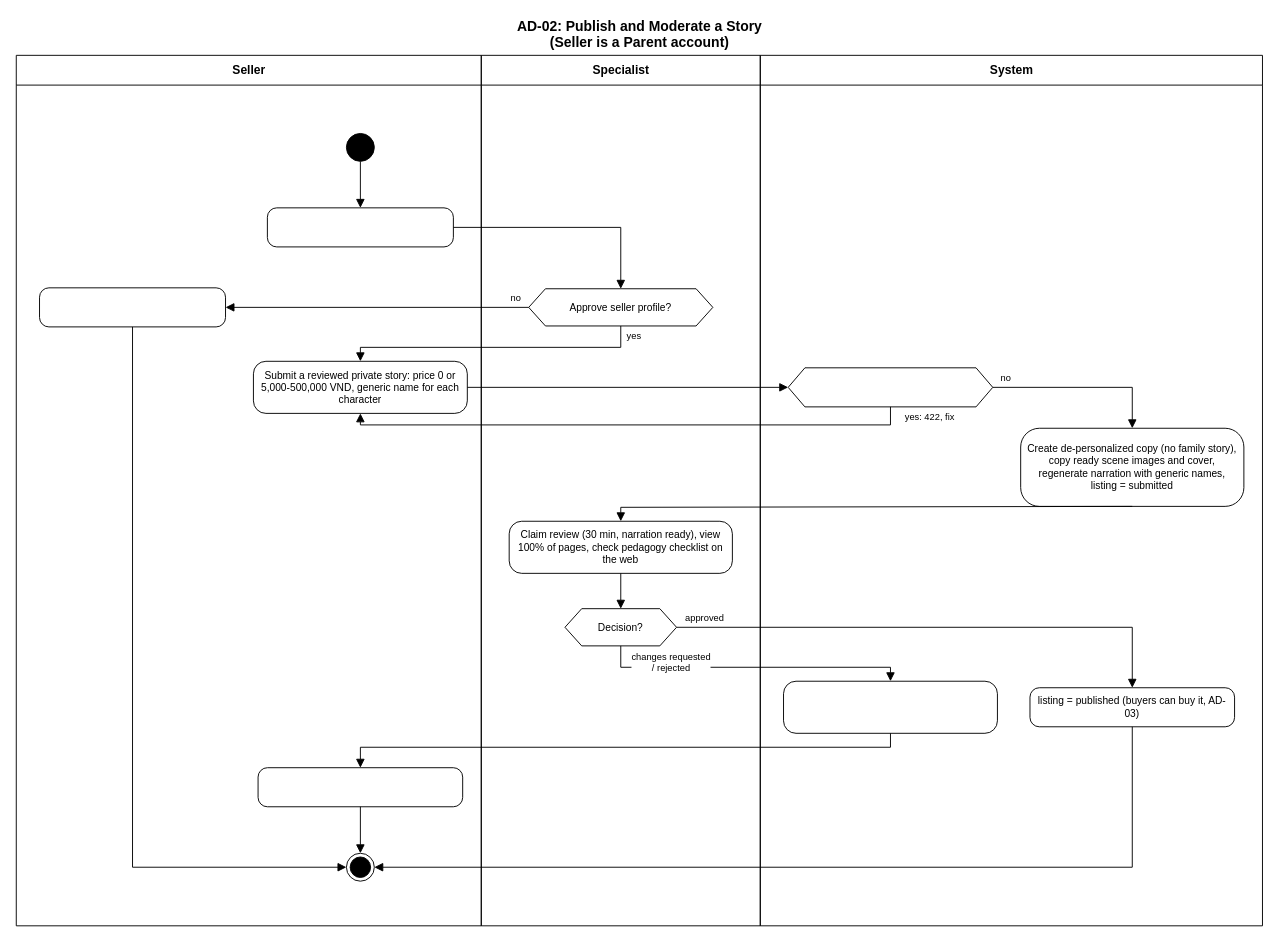
Image size: 1279x942. Some labels were removed from this diagram. The centre of each missing label's shape, as x and y in pixels:
Apply as seller (Family plan with can_sell): (359,227)
Fix the private story and submit again: (360,787)
listing = changes_requested / rejected (optional strike on reject, AD-05): (890,706)
Profile rejected, may apply again: (132,307)
Real names or family details left?: (890,387)
